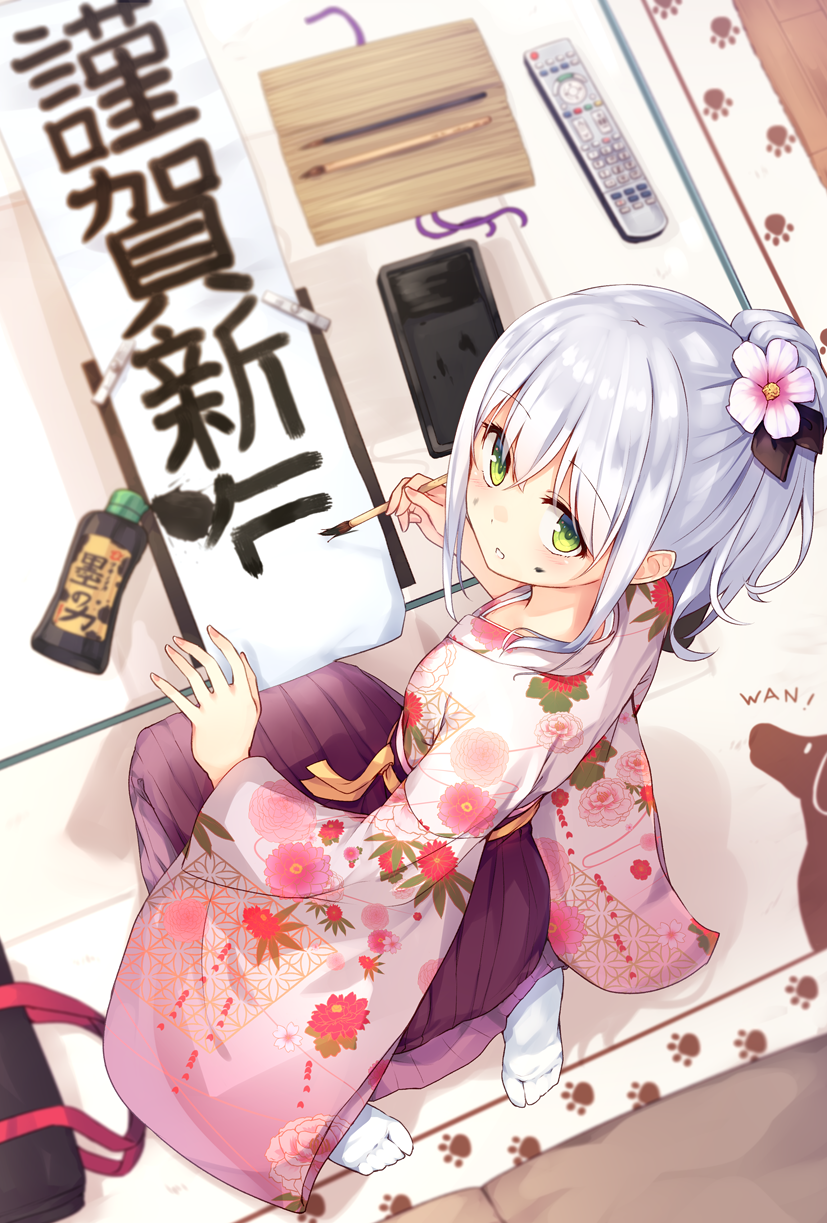纸片人正脸: (458, 280, 815, 587)
